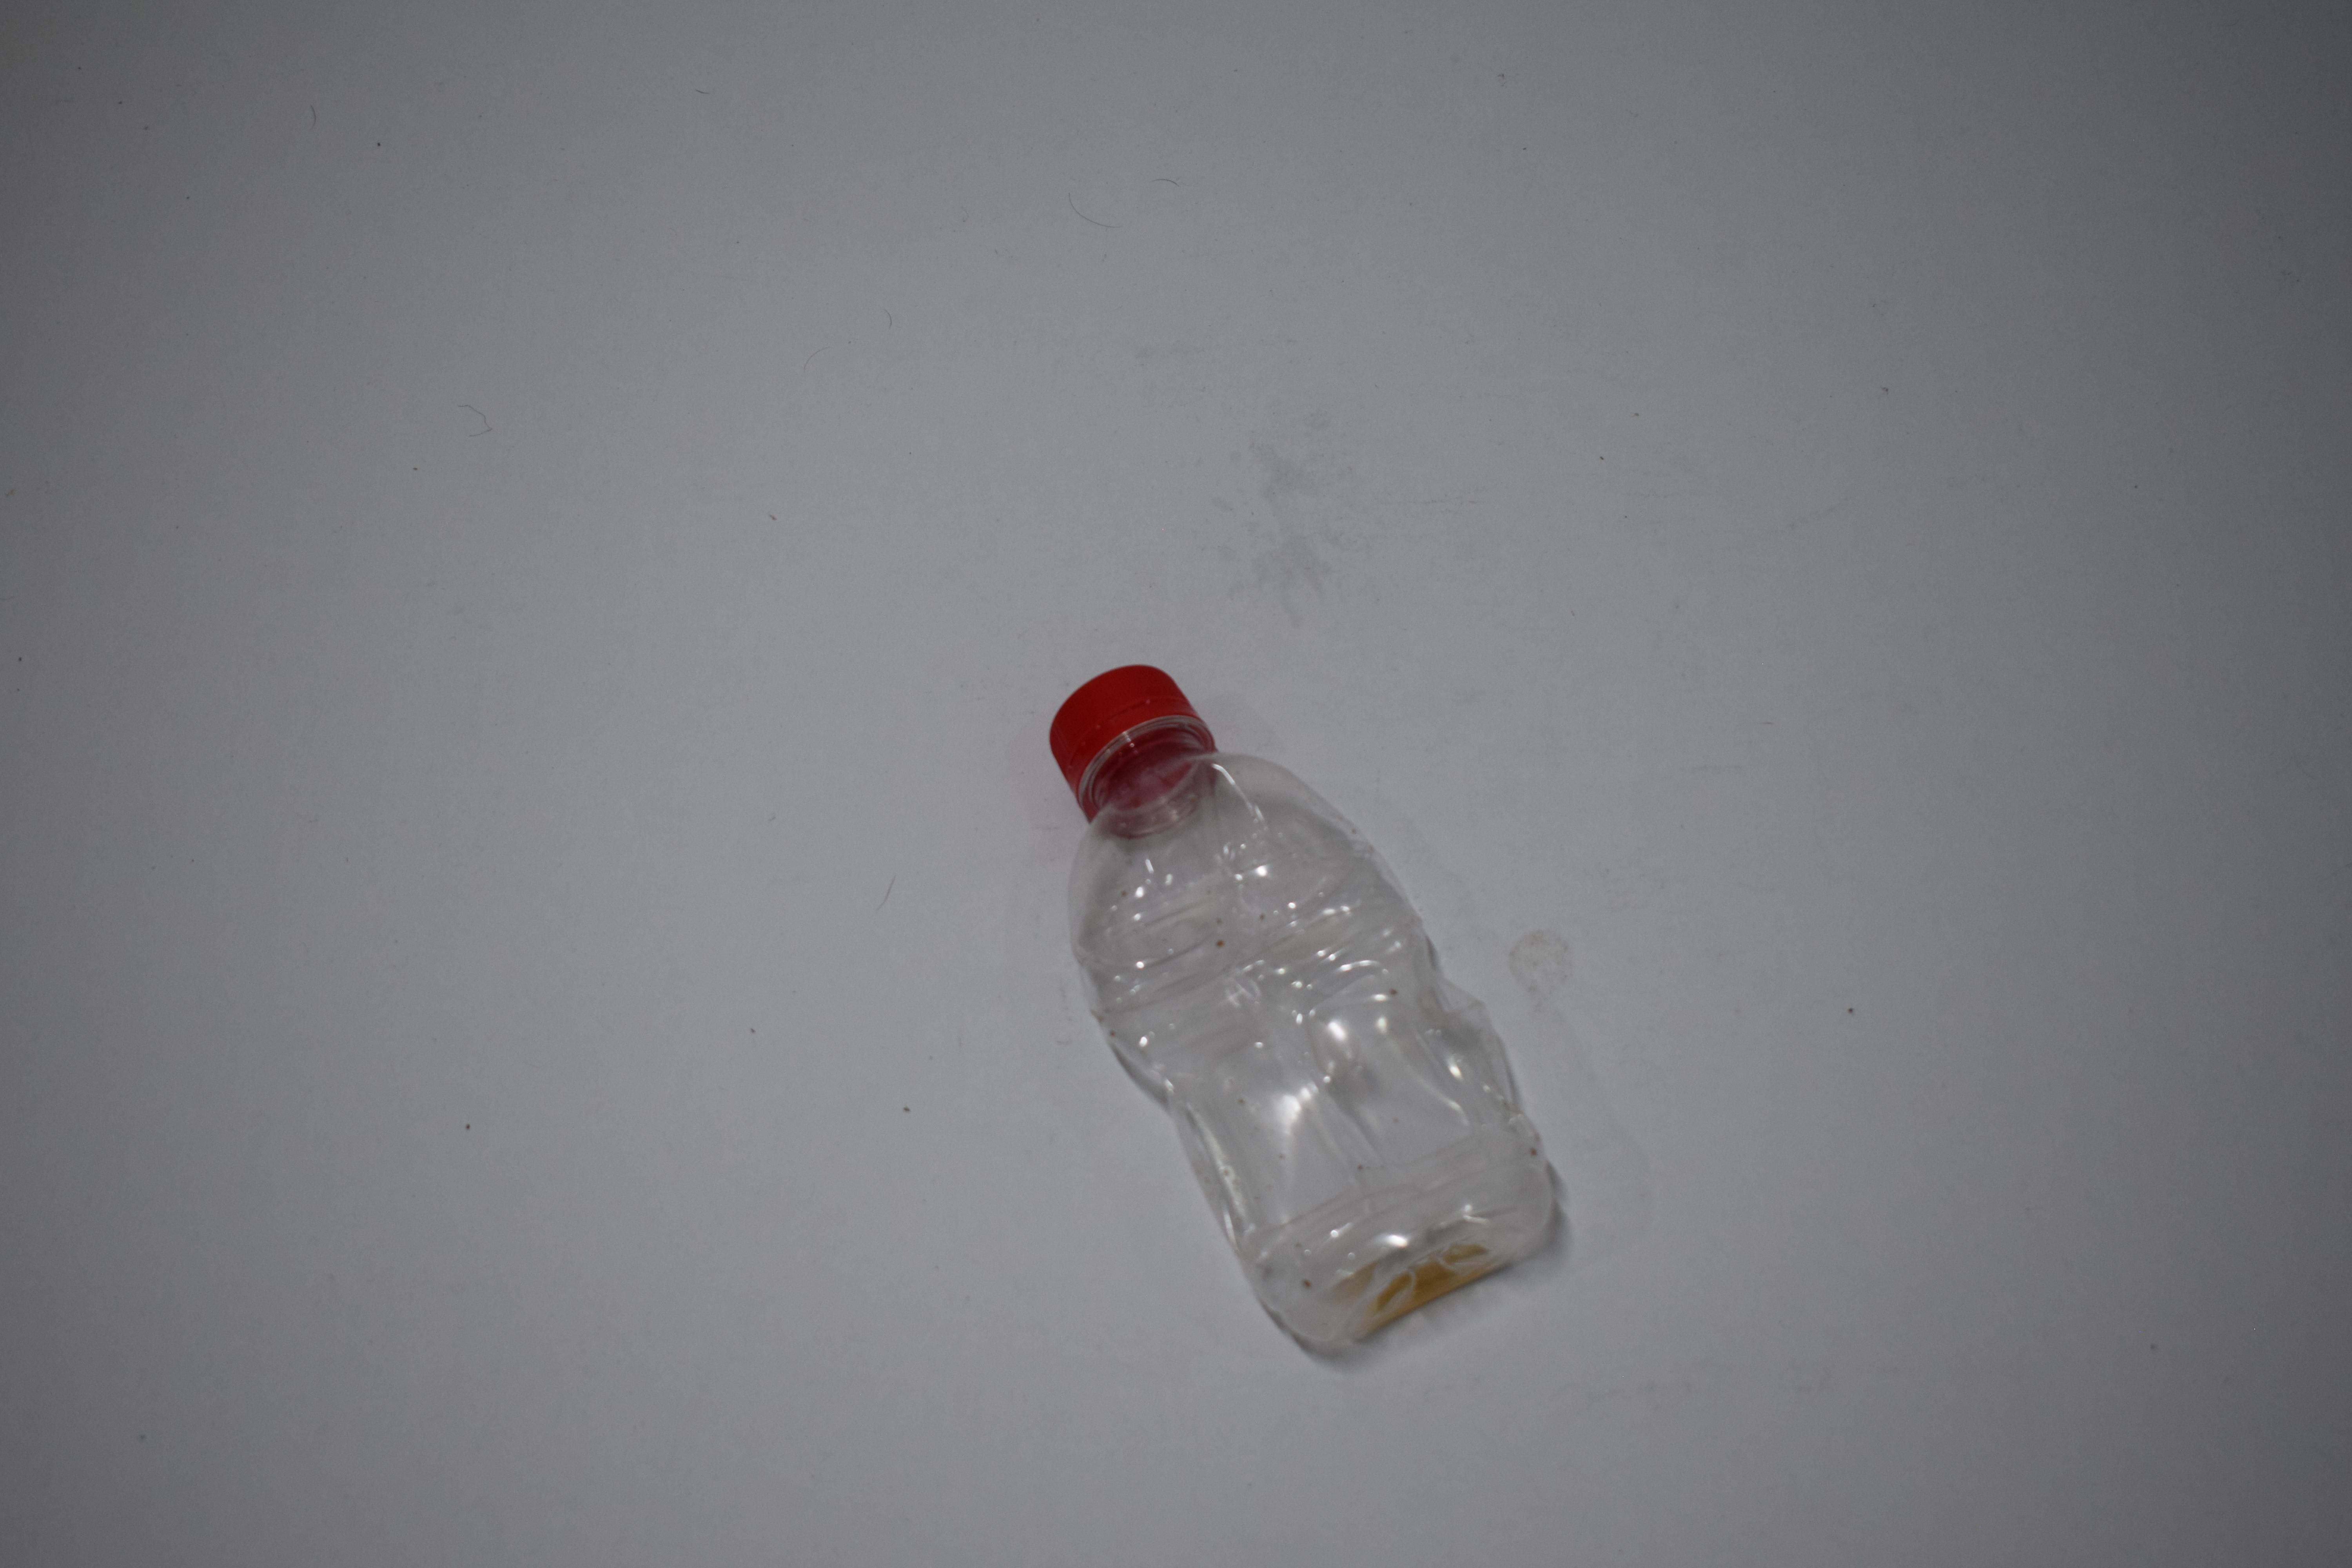bottle: (0, 690, 261, 1318)
